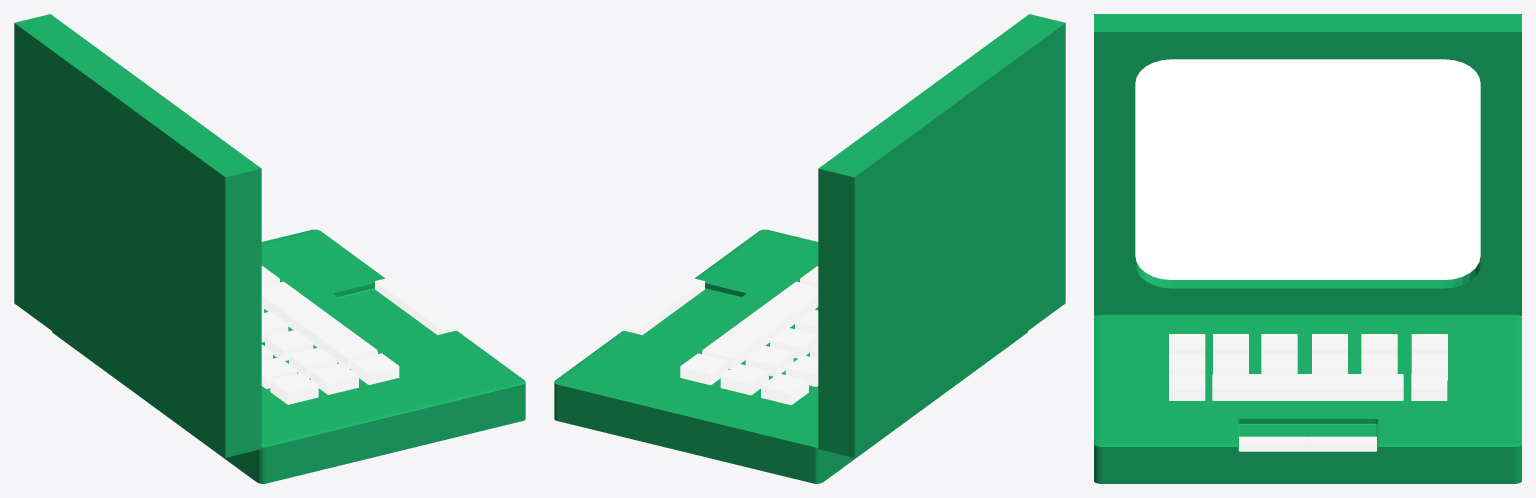
File: laptop.glb
3 renders of one model, left to right at view 1: azimuth 30°, elevation 25°; view 2: azimuth 150°, elevation 25°; view 3: azimuth 270°, elevation 25°, orthographic.
Visible parts, largest first — view 1: Laptop; view 2: Laptop; view 3: Laptop.
Part boxes in pixels (x1,y1,x2,y2): Laptop: (14, 14, 525, 483); Laptop: (554, 14, 1065, 483); Laptop: (1094, 14, 1521, 483).
Bounding box in the file's own units: 3.35 × 3.34 × 4.04.
